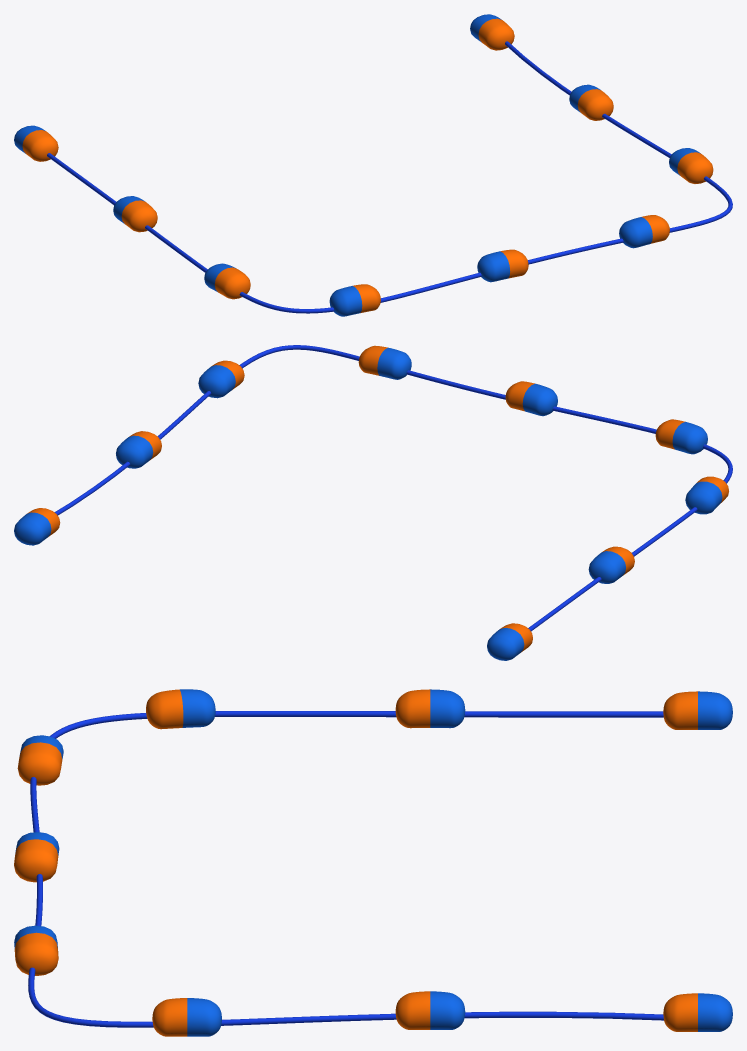
File: dubaa.fbx
3 renders of one model, top to bottom at view 1: azimuth 30°, elevation 25°; view 2: azimuth 150°, elevation 25°; view 3: azimuth 270°, elevation 25°, orthographic. The views are drawn at different scales.
Visible parts, largest first — view 1: NurbsPath.004; view 2: NurbsPath.004; view 3: NurbsPath.004.
Part boxes in pixels (left/top/right/bottom): NurbsPath.004: left=14, top=14, right=732, bottom=316; NurbsPath.004: left=14, top=345, right=732, bottom=660; NurbsPath.004: left=14, top=689, right=732, bottom=1036.
Size of the model in its own units: 7471 by 382 by 6926.
